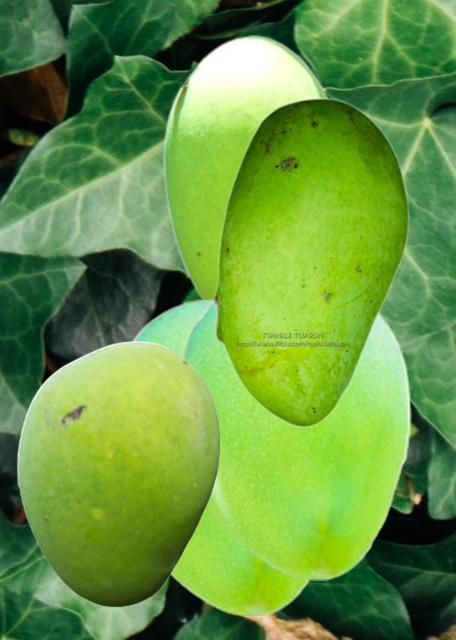green_mango: (212, 97, 409, 427), (179, 298, 410, 579), (129, 298, 313, 615), (16, 340, 219, 606), (162, 34, 329, 298)
